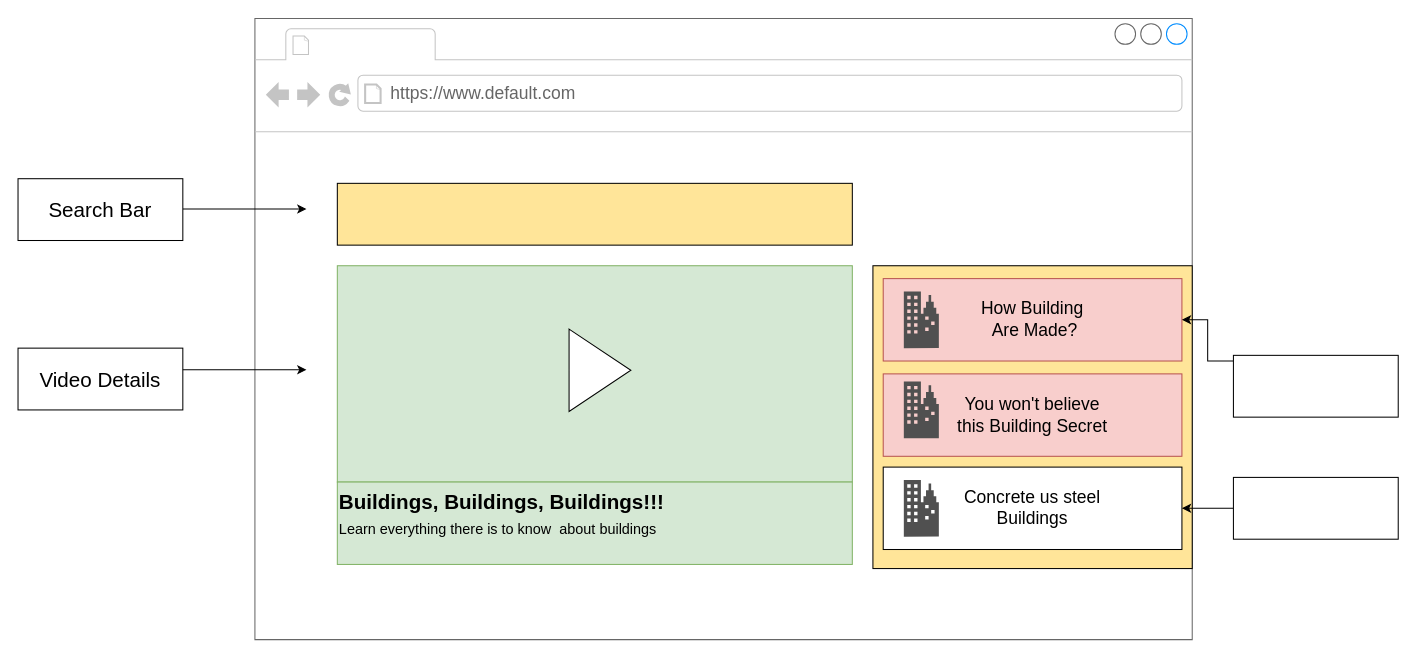
Image size: 1416x657. Some labels were removed from this diagram. Each missing label, with the centre of its shape:
Buildings: point 594,213
Page 1: point 373,44
Video Item: point 1315,507
Video List: point 1315,385
